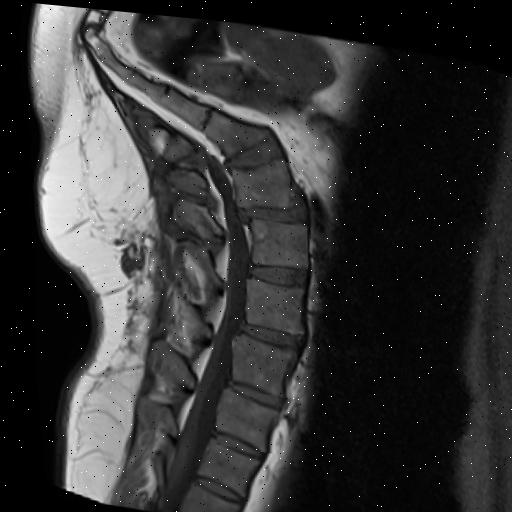L1: (207, 384, 270, 447)
L2: (224, 330, 289, 391)
L3: (240, 274, 297, 327)
L4: (248, 213, 303, 259)
L5: (228, 153, 286, 200)
S1: (202, 105, 266, 150)
